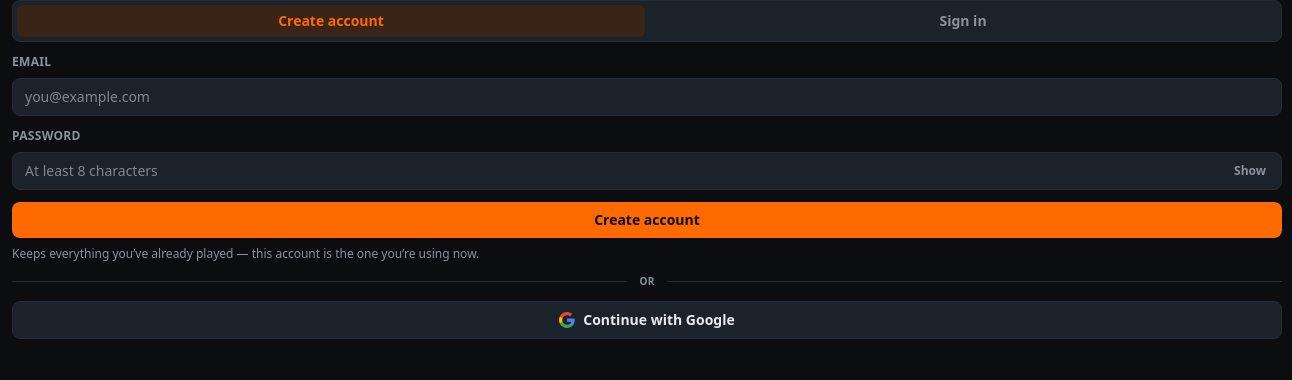
Test: AuthPanel › does not carry an error across the tabs, where it would mean the opposite
Type "player@example.com" into the field labelled "Email" at (647, 97), box [12, 78, 1282, 116]
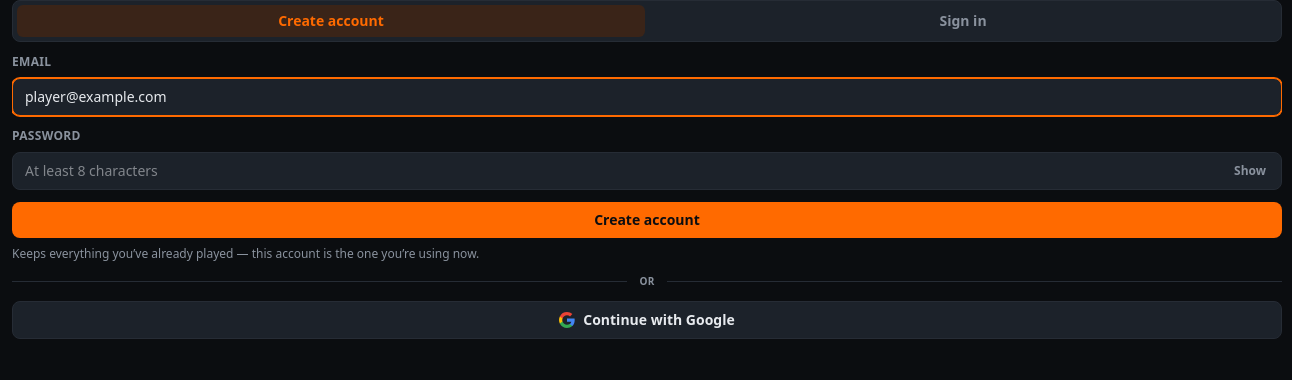
Type "short" into the password field labelled "Password" at (647, 171), box [12, 152, 1282, 190]
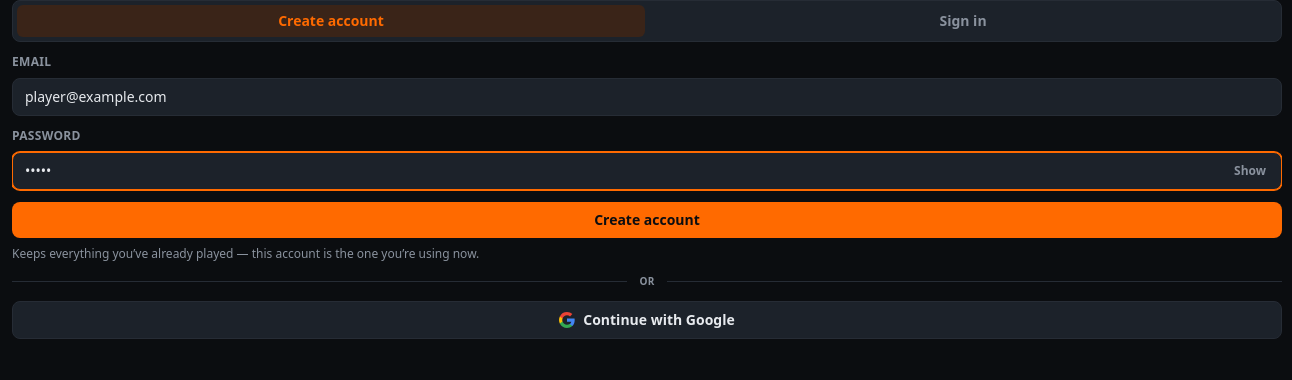
Click the button "Create account" at (647, 220), box [12, 202, 1282, 238]
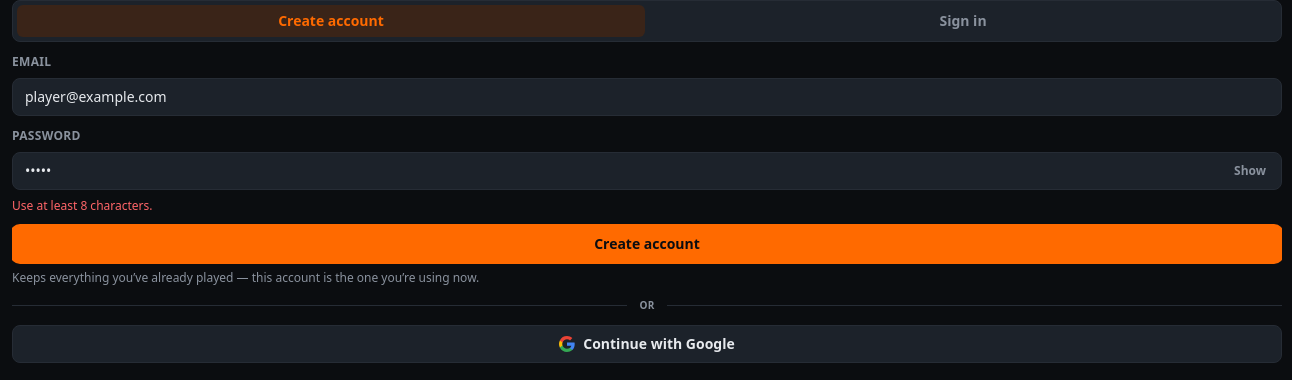
Result: the message "Use at least 8 characters." is shown at [12, 197, 152, 214]
Click the tab "Sign in" at (963, 21), box [649, 5, 1277, 37]
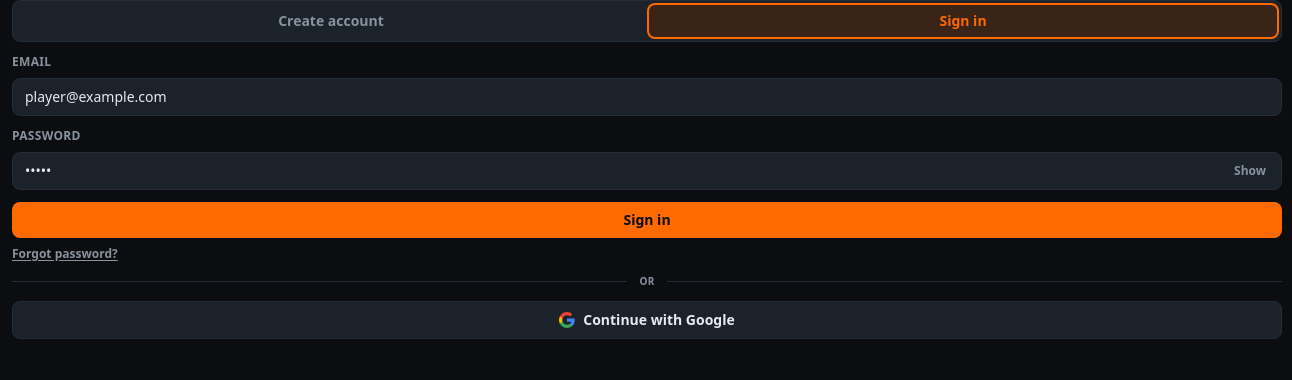
Result: the message "Use at least 8 characters." is gone
